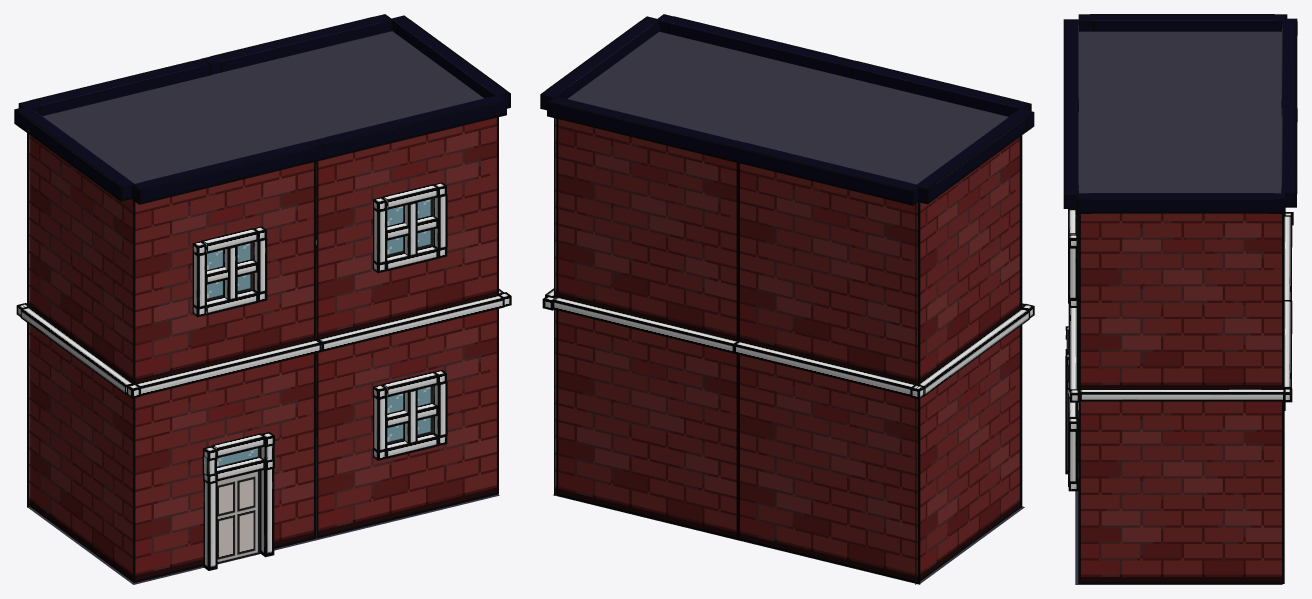
The model's file is Red High Building.fbx.
3 views of the same model, side by side, from view 1: azimuth 30°, elevation 25°; view 2: azimuth 150°, elevation 25°; view 3: azimuth 270°, elevation 25° (orthographic). The views are drawn at different scales.
Parts seen in each view (by area): view 1: seed project(Enviroment 2).005; view 2: seed project(Enviroment 2).005; view 3: seed project(Enviroment 2).005.
Boxes of the visible parts, x1=… form: seed project(Enviroment 2).005: x1=14, y1=14, x2=511, y2=584; seed project(Enviroment 2).005: x1=540, y1=14, x2=1034, y2=584; seed project(Enviroment 2).005: x1=1063, y1=14, x2=1297, y2=584.
Bounding box in the file's own units: 89.58 × 47.73 × 88.03.
